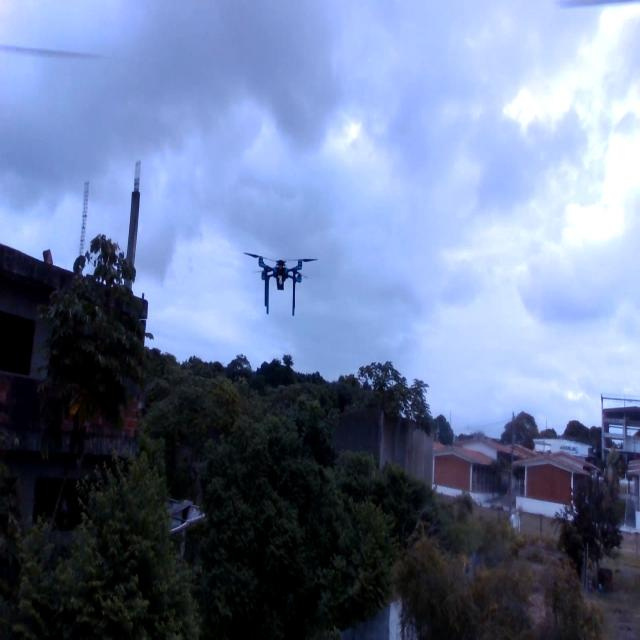-uav-: (236, 238, 318, 324)
